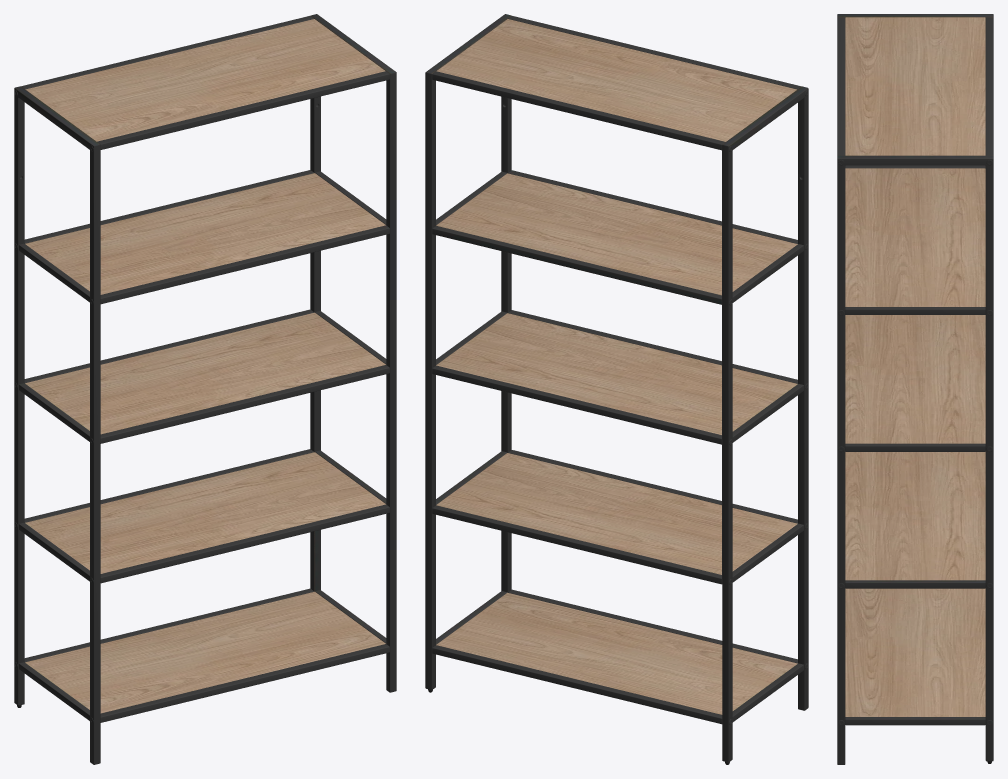
The model's file is abo-B07PQQRST8.glb.
3 views of the same model, side by side, from view 1: azimuth 30°, elevation 25°; view 2: azimuth 150°, elevation 25°; view 3: azimuth 270°, elevation 25° (orthographic). The views are drawn at different scales.
Size of the model in its own units: 0.77 by 1.5 by 0.35.
Materials: 1 (1 with a texture image).
